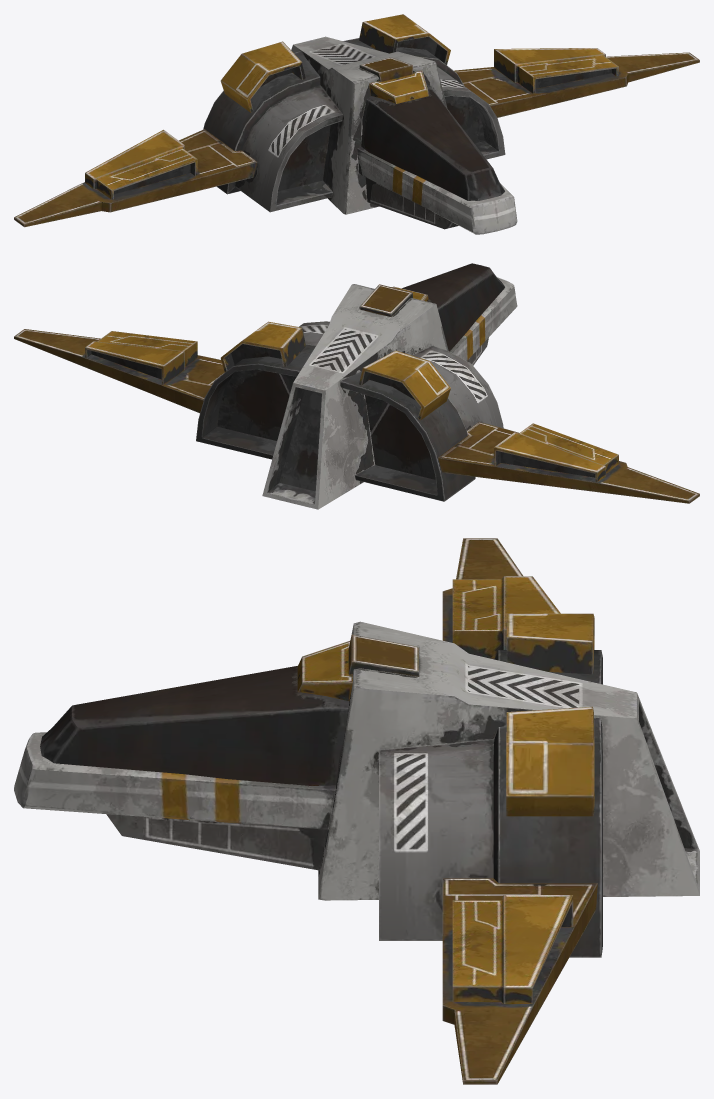
Rendered from Bob.glb.
3 views of the same model, one above another, from view 1: azimuth 30°, elevation 25°; view 2: azimuth 150°, elevation 25°; view 3: azimuth 270°, elevation 25° (orthographic). The views are drawn at different scales.
Parts seen in each view (by area): view 1: Bob; view 2: Bob; view 3: Bob.
Boxes of the visible parts, x1,y1,x2,y2 form: Bob: (14, 14, 699, 234); Bob: (14, 263, 699, 509); Bob: (14, 538, 699, 1084).
Bounding box in the file's own units: 1 × 0.1938 × 0.5344.
1 material, 1 textured.
